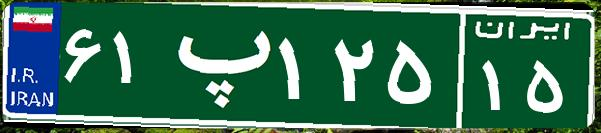1: (273, 28, 330, 110), (475, 38, 525, 113), (110, 28, 158, 105)
2: (330, 28, 385, 110)
5: (385, 28, 445, 110), (525, 38, 570, 115)
6: (57, 26, 110, 107)
پ: (158, 15, 273, 115)
